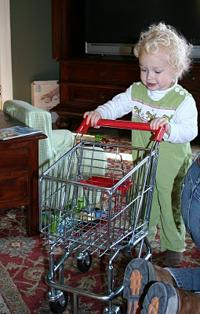person: (83, 22, 200, 253)
